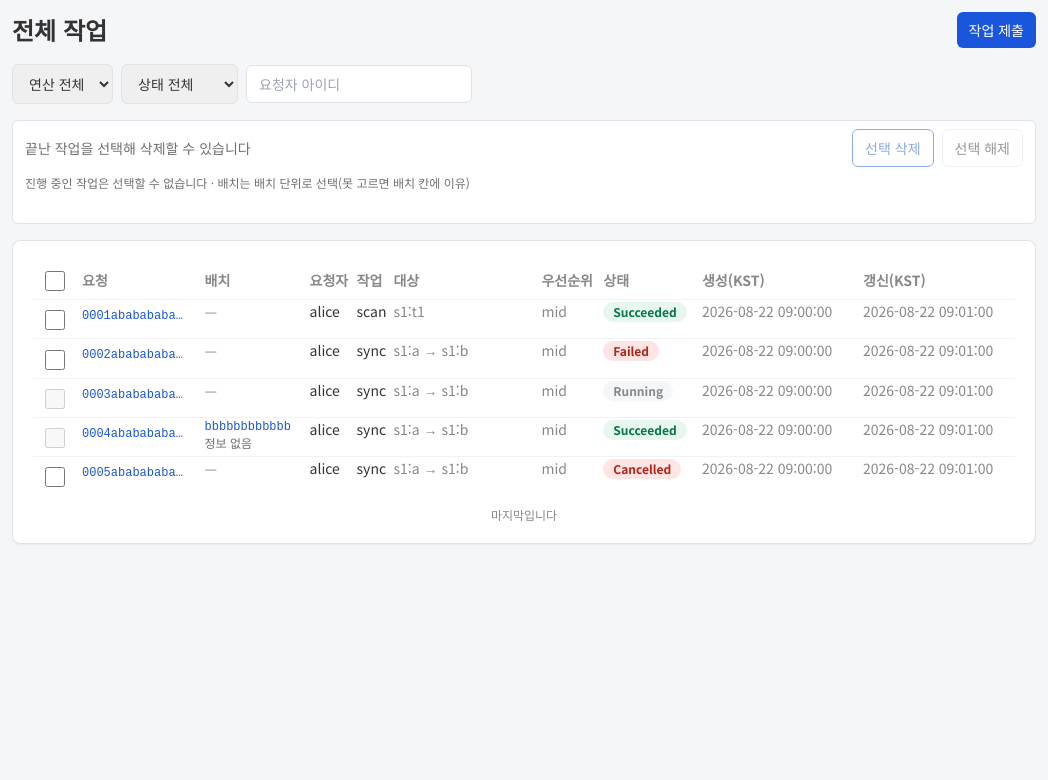
전체 선택은 삭제 가능한 행만 담고 indeterminate 가 맞다 — 선택 중 문구에 성공 scan 수
Click the 3rd checkbox: {"x": 55, "y": 360} [45,350,65,370]
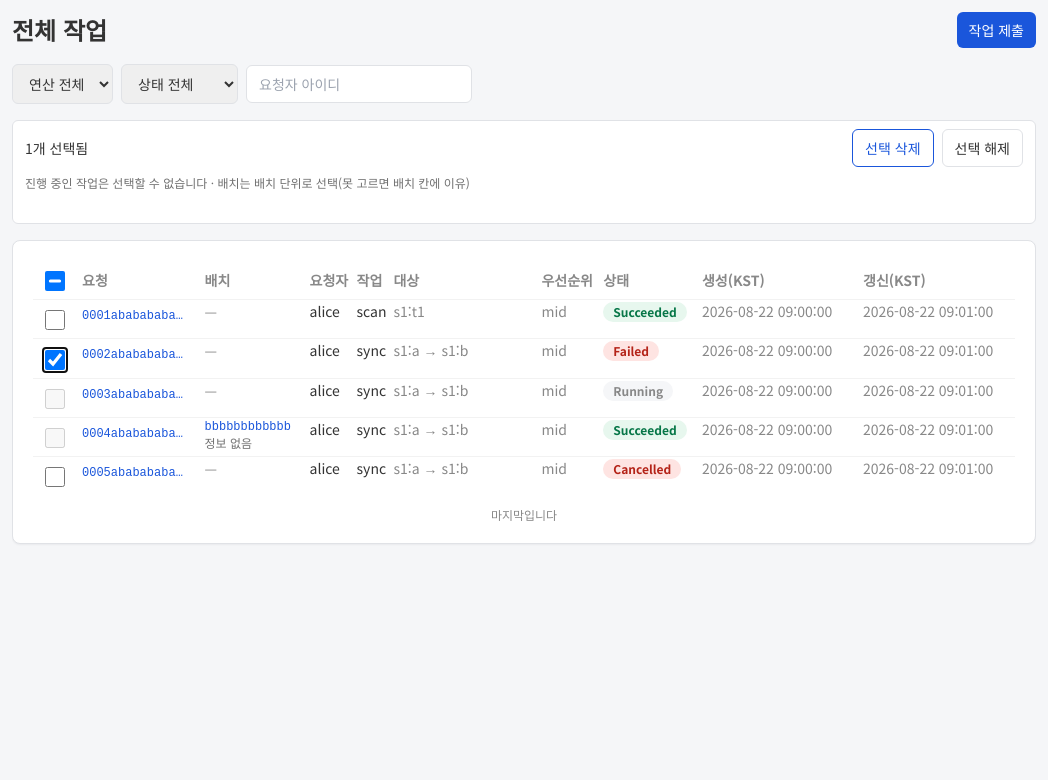
Expected: the element named "작업 일괄 처리" does not show "성공 scan", [12,120,1036,224]
Expected: the element named "작업 일괄 처리" shows "1개 선택됨", [25,138,88,158]
Click the checkbox named "불러온 단일 작업 중 삭제 가능한 것 전체 선택(배치 제외)": {"x": 55, "y": 281} [45,271,65,291]
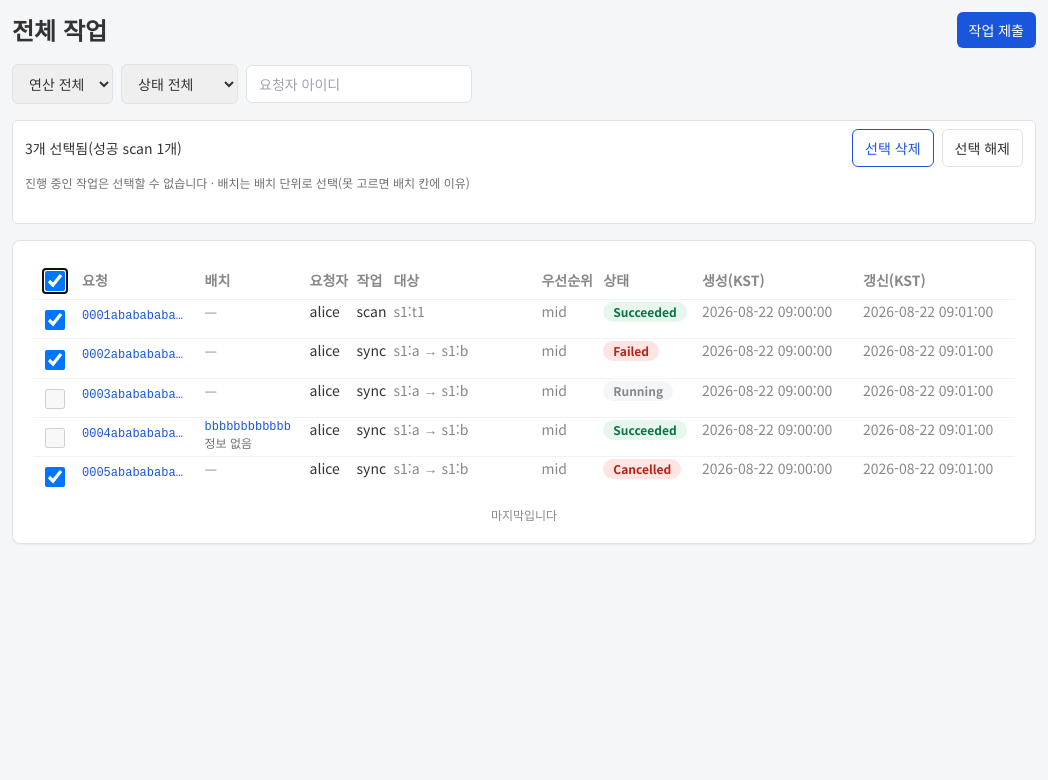
Expected: the checkbox named "불러온 단일 작업 중 삭제 가능한 것 전체 선택(배치 제외)" is checked
Expected: the element named "작업 일괄 처리" shows "3개 선택됨(성공 scan 1개)", [25,138,182,158]
Click the checkbox named "불러온 단일 작업 중 삭제 가능한 것 전체 선택(배치 제외)": {"x": 55, "y": 281} [45,271,65,291]
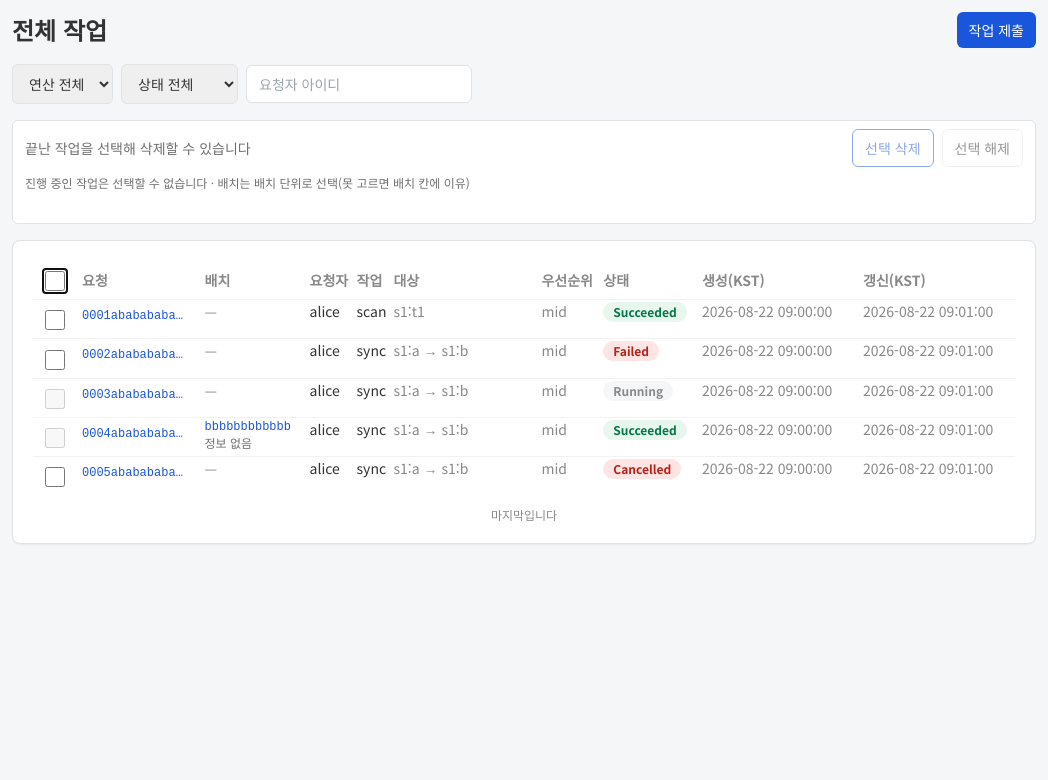
Expected: the element named "작업 일괄 처리" shows "진행 중인 작업은 선택할 수 없습니다 · 배치는 배치 단위로 선택(못 고르면 배치 칸에 이유)", [25,174,470,191]
Expected: the message reads "끝난 작업을 선택해 삭제할 수 있습니다", [25,138,251,158]
